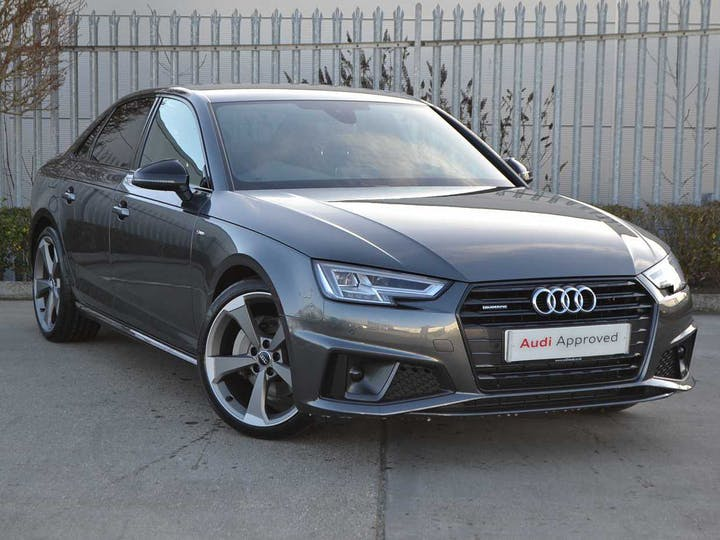audi: (525, 282, 599, 316)
